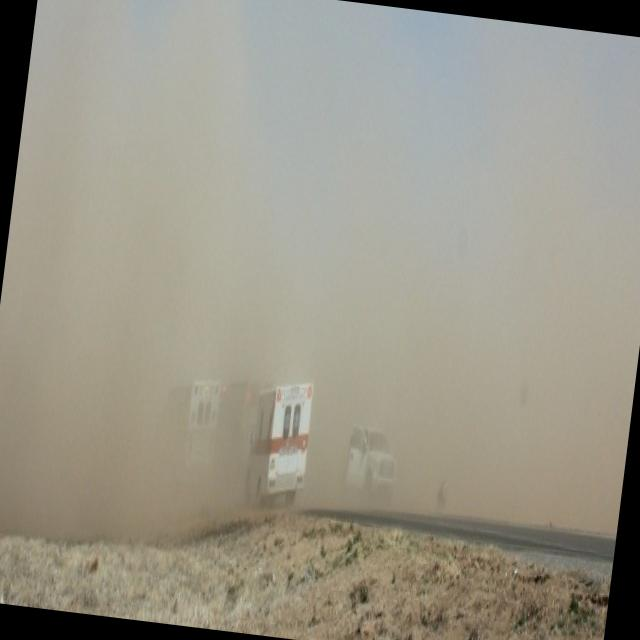car: (245, 375, 317, 509), (152, 369, 224, 492), (343, 423, 401, 494)
